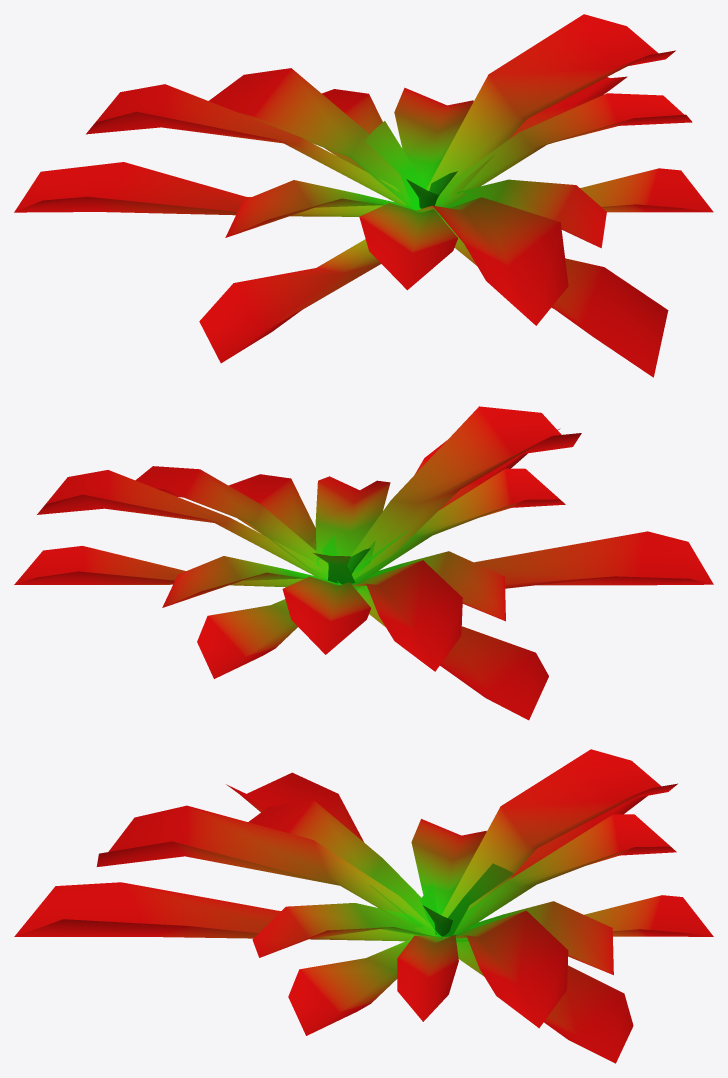
File: Var10_LOD2.fbx
3 renders of one model, top to bottom at view 1: azimuth 30°, elevation 25°; view 2: azimuth 150°, elevation 25°; view 3: azimuth 270°, elevation 25°, orthographic. The views are drawn at different scales.
Parts seen in each view (by area): view 1: _hpf5_Var10_LOD2; view 2: _hpf5_Var10_LOD2; view 3: _hpf5_Var10_LOD2.
Boxes of the visible parts, box(x1,y1,x2,y2) form: _hpf5_Var10_LOD2: box(14, 14, 713, 377); _hpf5_Var10_LOD2: box(14, 406, 713, 720); _hpf5_Var10_LOD2: box(14, 749, 713, 1063).
Size of the model in its own units: 31.36 by 5.42 by 33.48.
